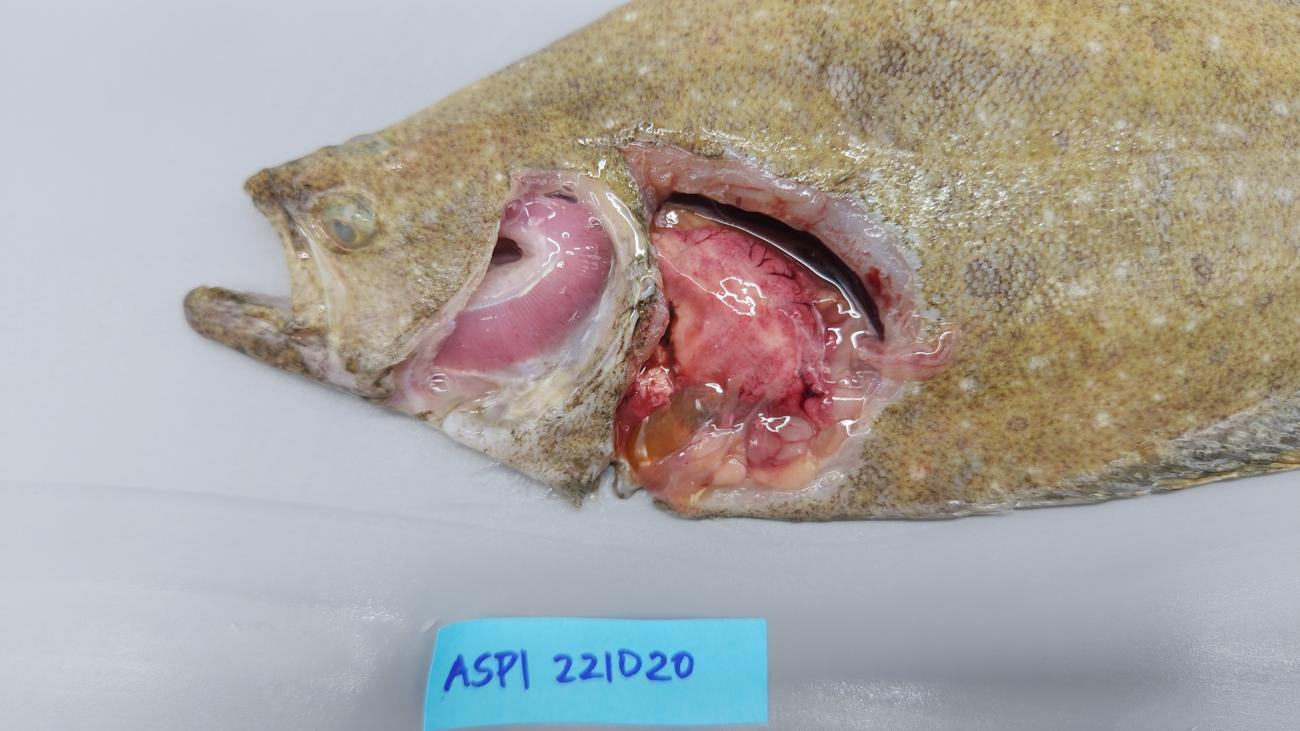SPGIP: (436, 196, 611, 368)
